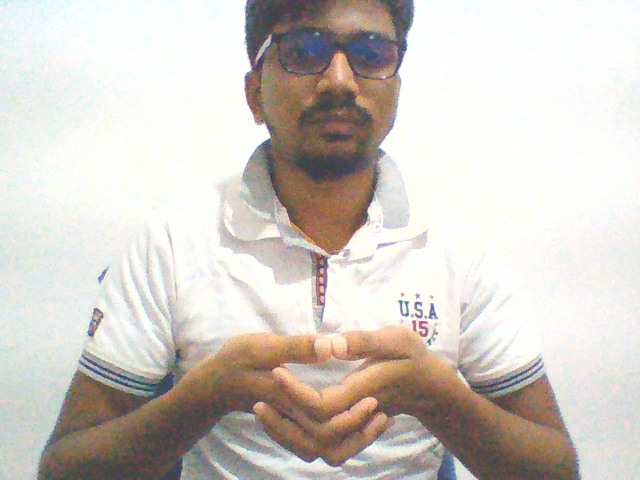mangosteen: (201, 314, 448, 472)
